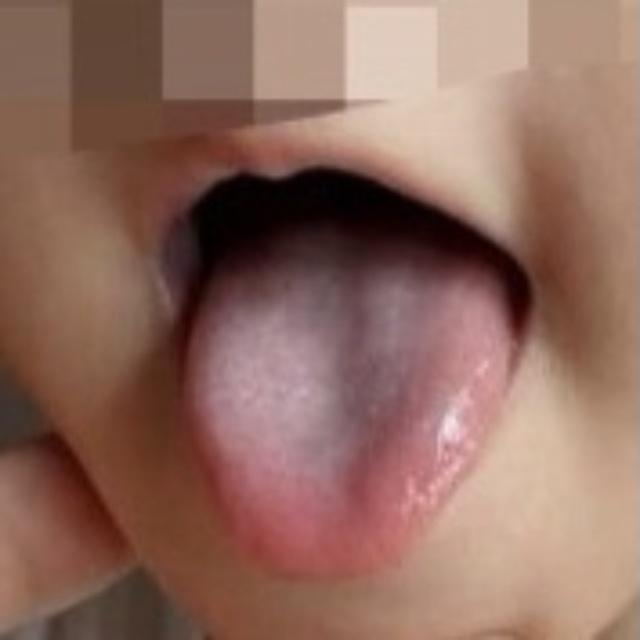baitaishe: (180, 261, 513, 581)
